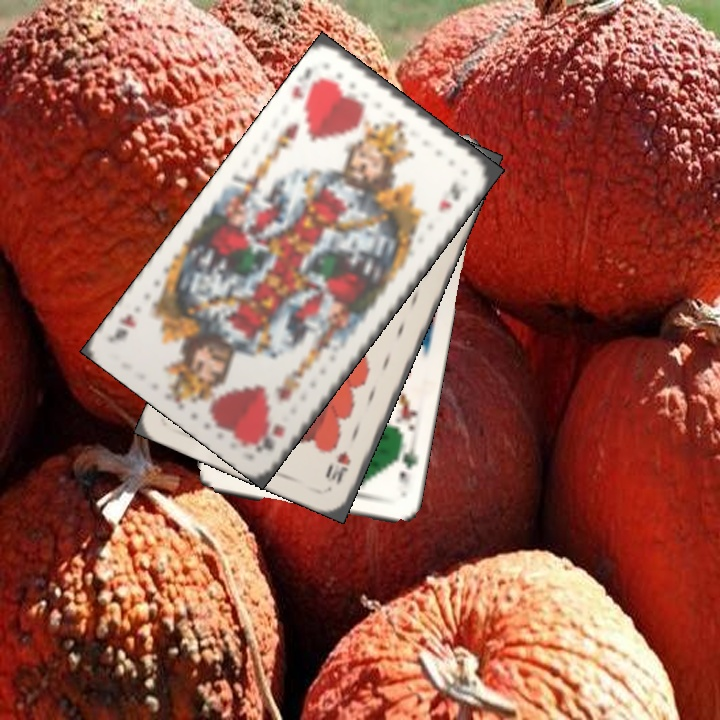GK: (393, 442, 420, 488)
H10: (323, 446, 354, 485)
HK: (251, 420, 289, 455), (286, 62, 315, 103)
